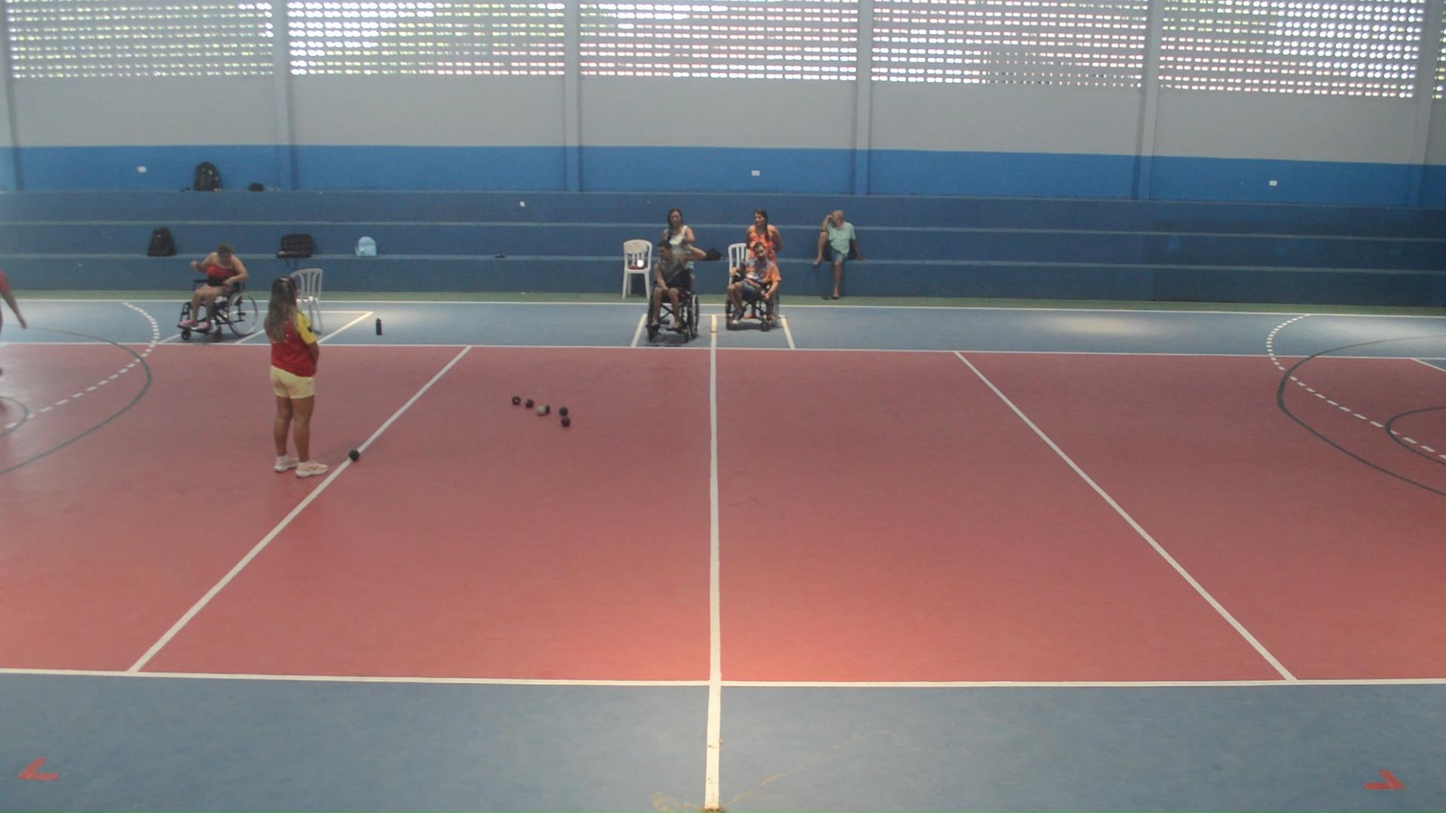blue_ball: (347, 449, 360, 461), (559, 407, 568, 415)
red_ball: (512, 395, 522, 405), (536, 406, 546, 416), (561, 418, 571, 426), (526, 398, 533, 408), (544, 404, 550, 413)
